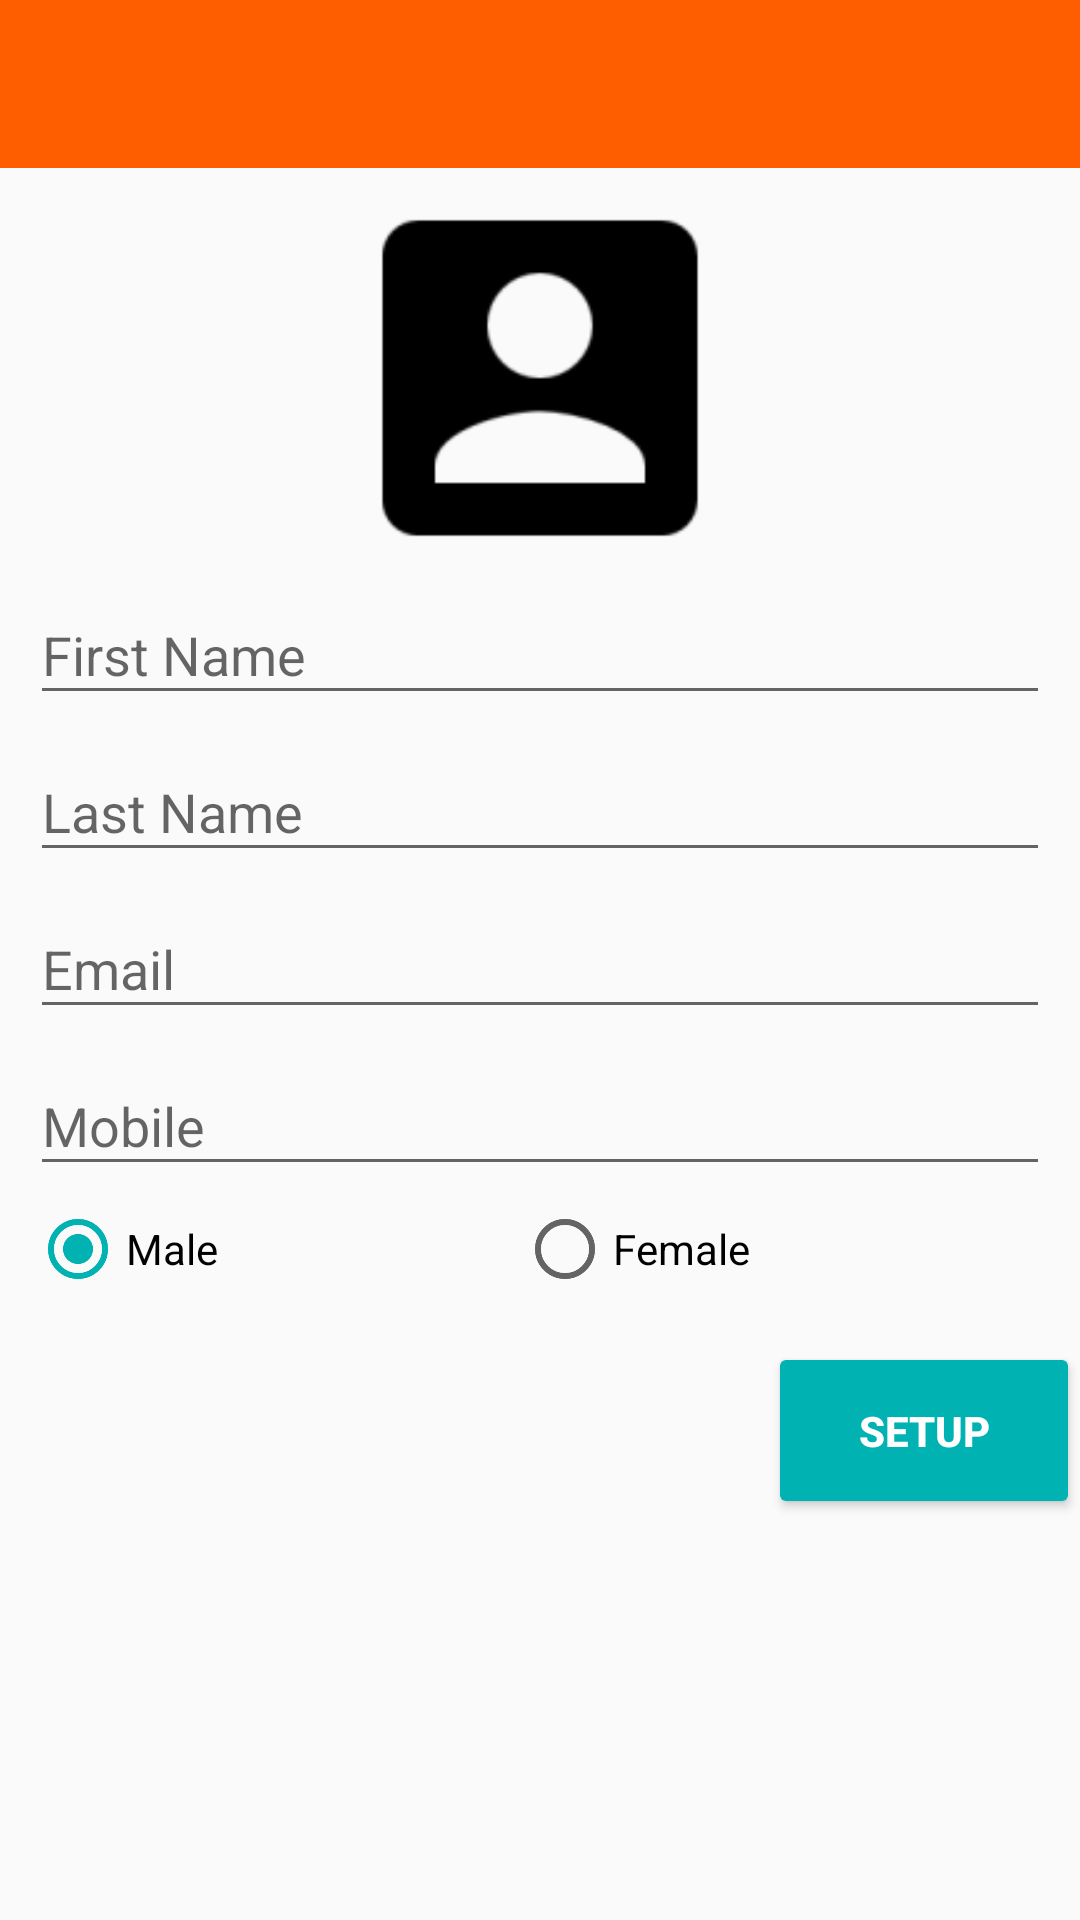

Where icons sit on this 1080×1920 app screen, as (x1, y1, x2, y2):
user: (381, 219, 699, 537)
